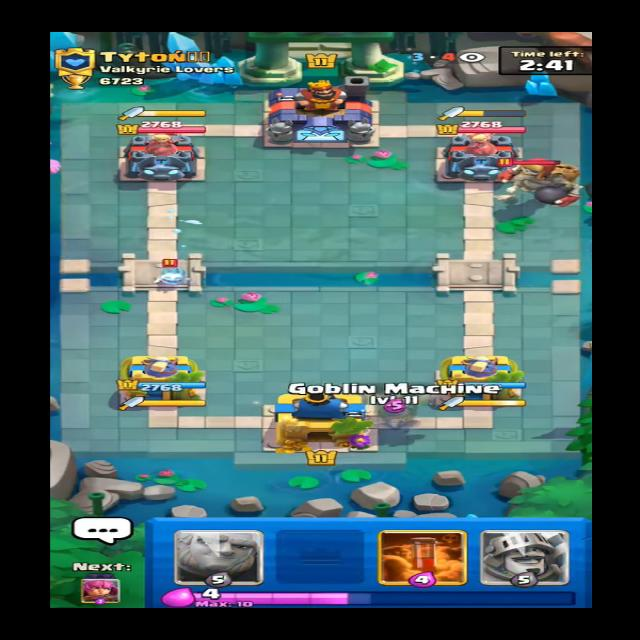Giantskeleton: (496, 150, 588, 204)
Icespirit: (154, 260, 193, 286)
